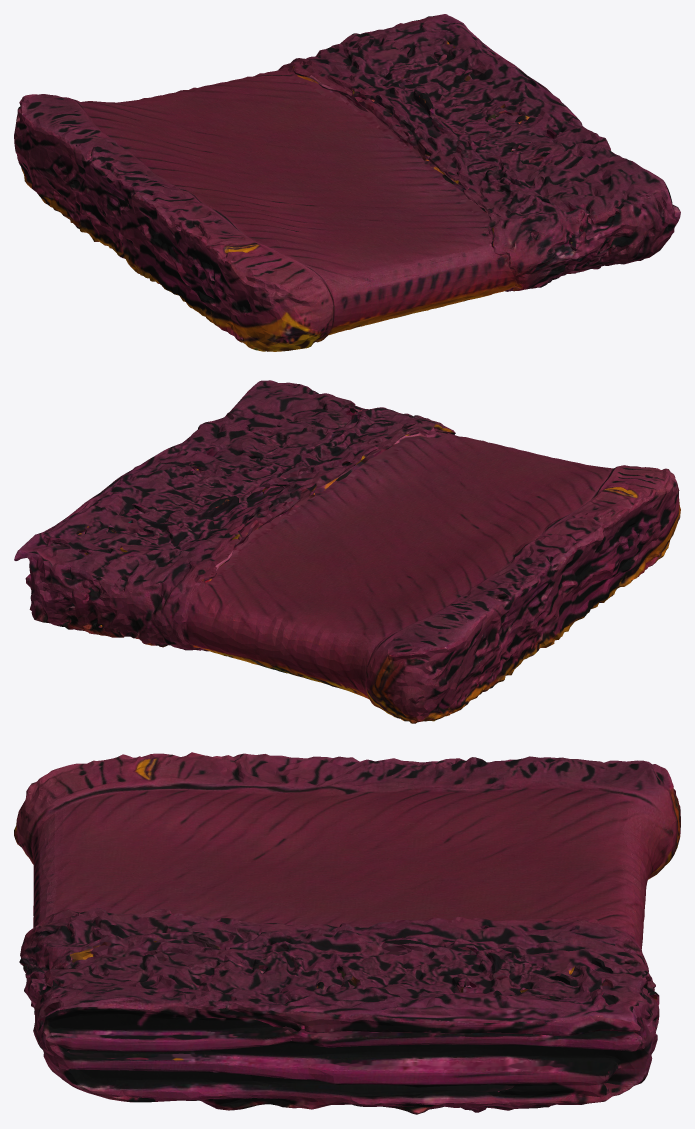
The model's file is image_0002_segmented.glb.
The picture shows the model from 3 angles, top to bottom: view 1: azimuth 30°, elevation 25°; view 2: azimuth 150°, elevation 25°; view 3: azimuth 270°, elevation 25°; orthographic projection. The views are drawn at different scales.
Visible parts, largest first — view 1: tmpx_xbwgvq.ply; view 2: tmpx_xbwgvq.ply; view 3: tmpx_xbwgvq.ply.
Part boxes in pixels (bbox=[...]): tmpx_xbwgvq.ply: bbox=[14, 14, 680, 351]; tmpx_xbwgvq.ply: bbox=[14, 380, 680, 723]; tmpx_xbwgvq.ply: bbox=[14, 752, 680, 1114].
Bounding box in the file's own units: 1.83 × 0.3976 × 1.99.
Materials: 1 (1 with a texture image).
